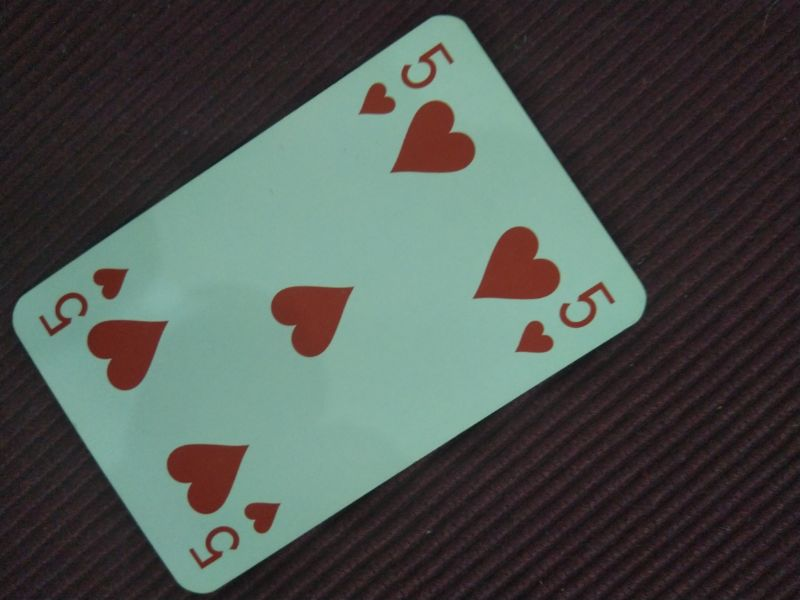5h: (512, 279, 617, 357), (356, 40, 460, 118), (37, 266, 131, 341), (185, 498, 281, 570)
